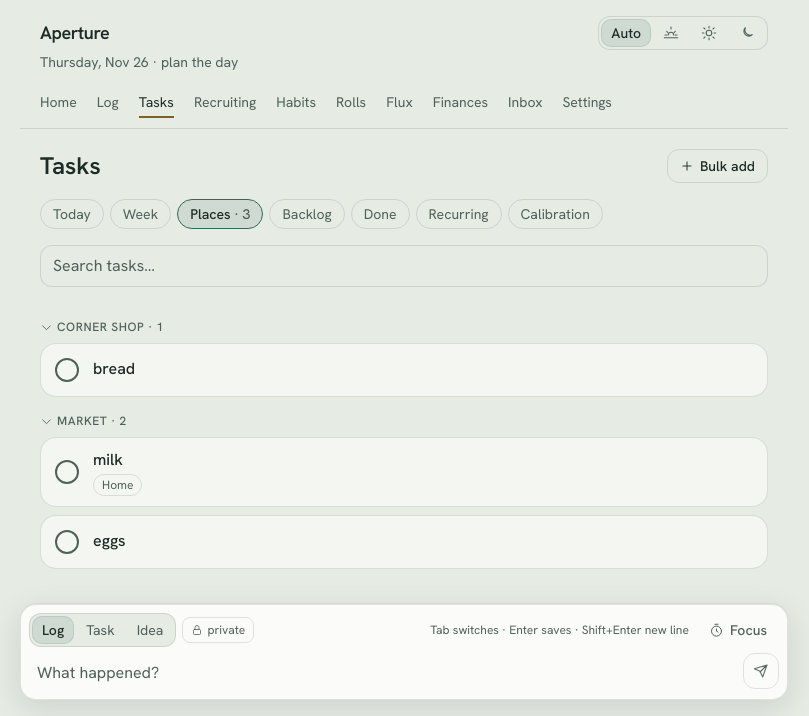
Test: Places lens › a failed Add again says so and keeps the offer
The width and height of the screenshot is (809, 716).
Click the button named "Check off milk". click: (67, 472)
box: [45,450,89,494]
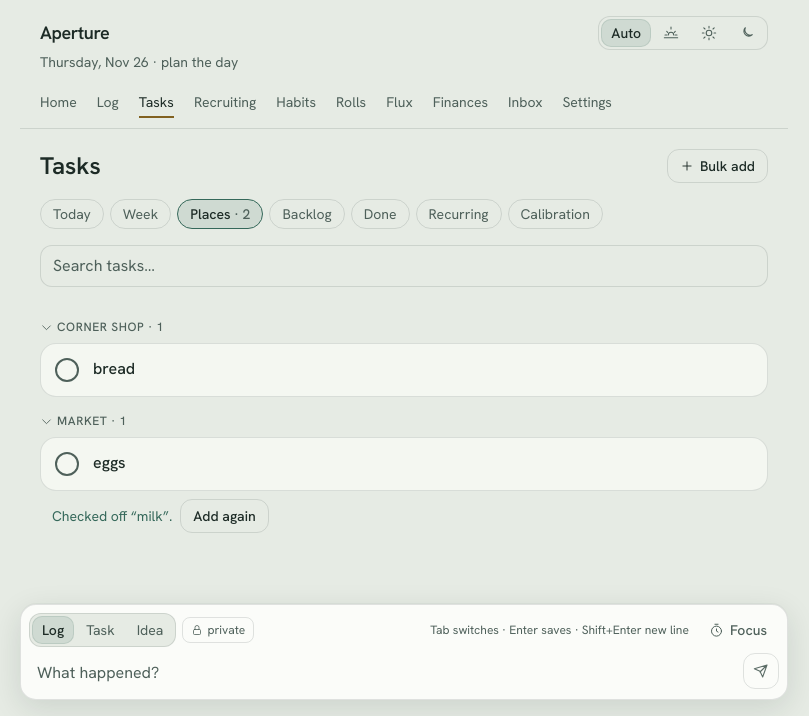
Check: the text "Checked off “milk”." is shown, box [52,506,172,526]
Click the button "Add again". click: (224, 516)
box: [180,499,269,533]
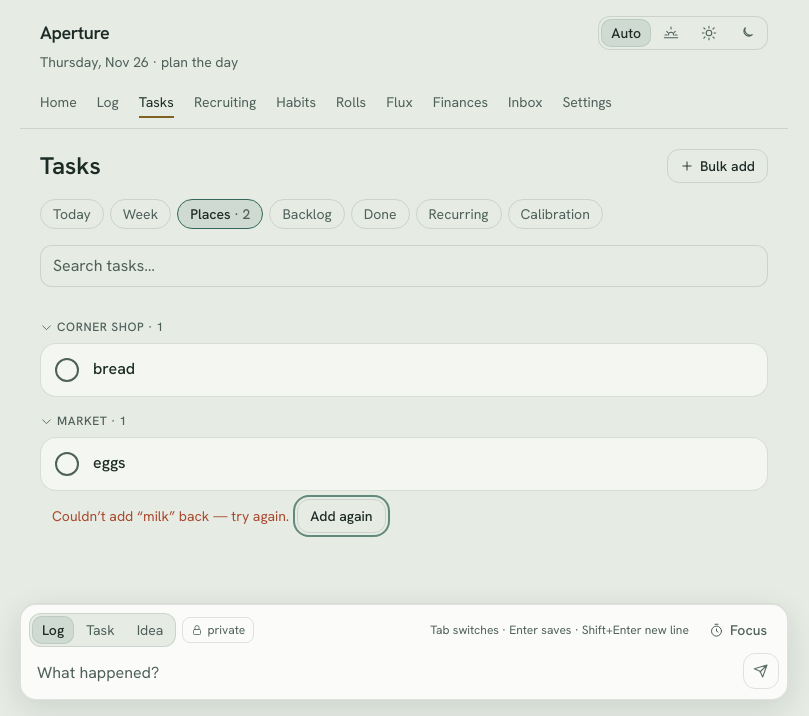
Check: the button "Add again" is shown, box [297,499,386,533]
Check: the text "Couldn’t add “milk” back — try again." is shown, box [52,506,289,526]
